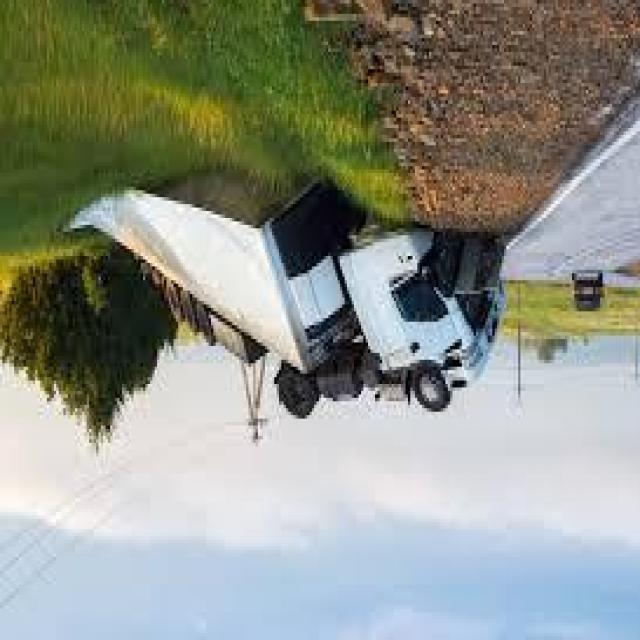severe: (85, 169, 512, 429)
